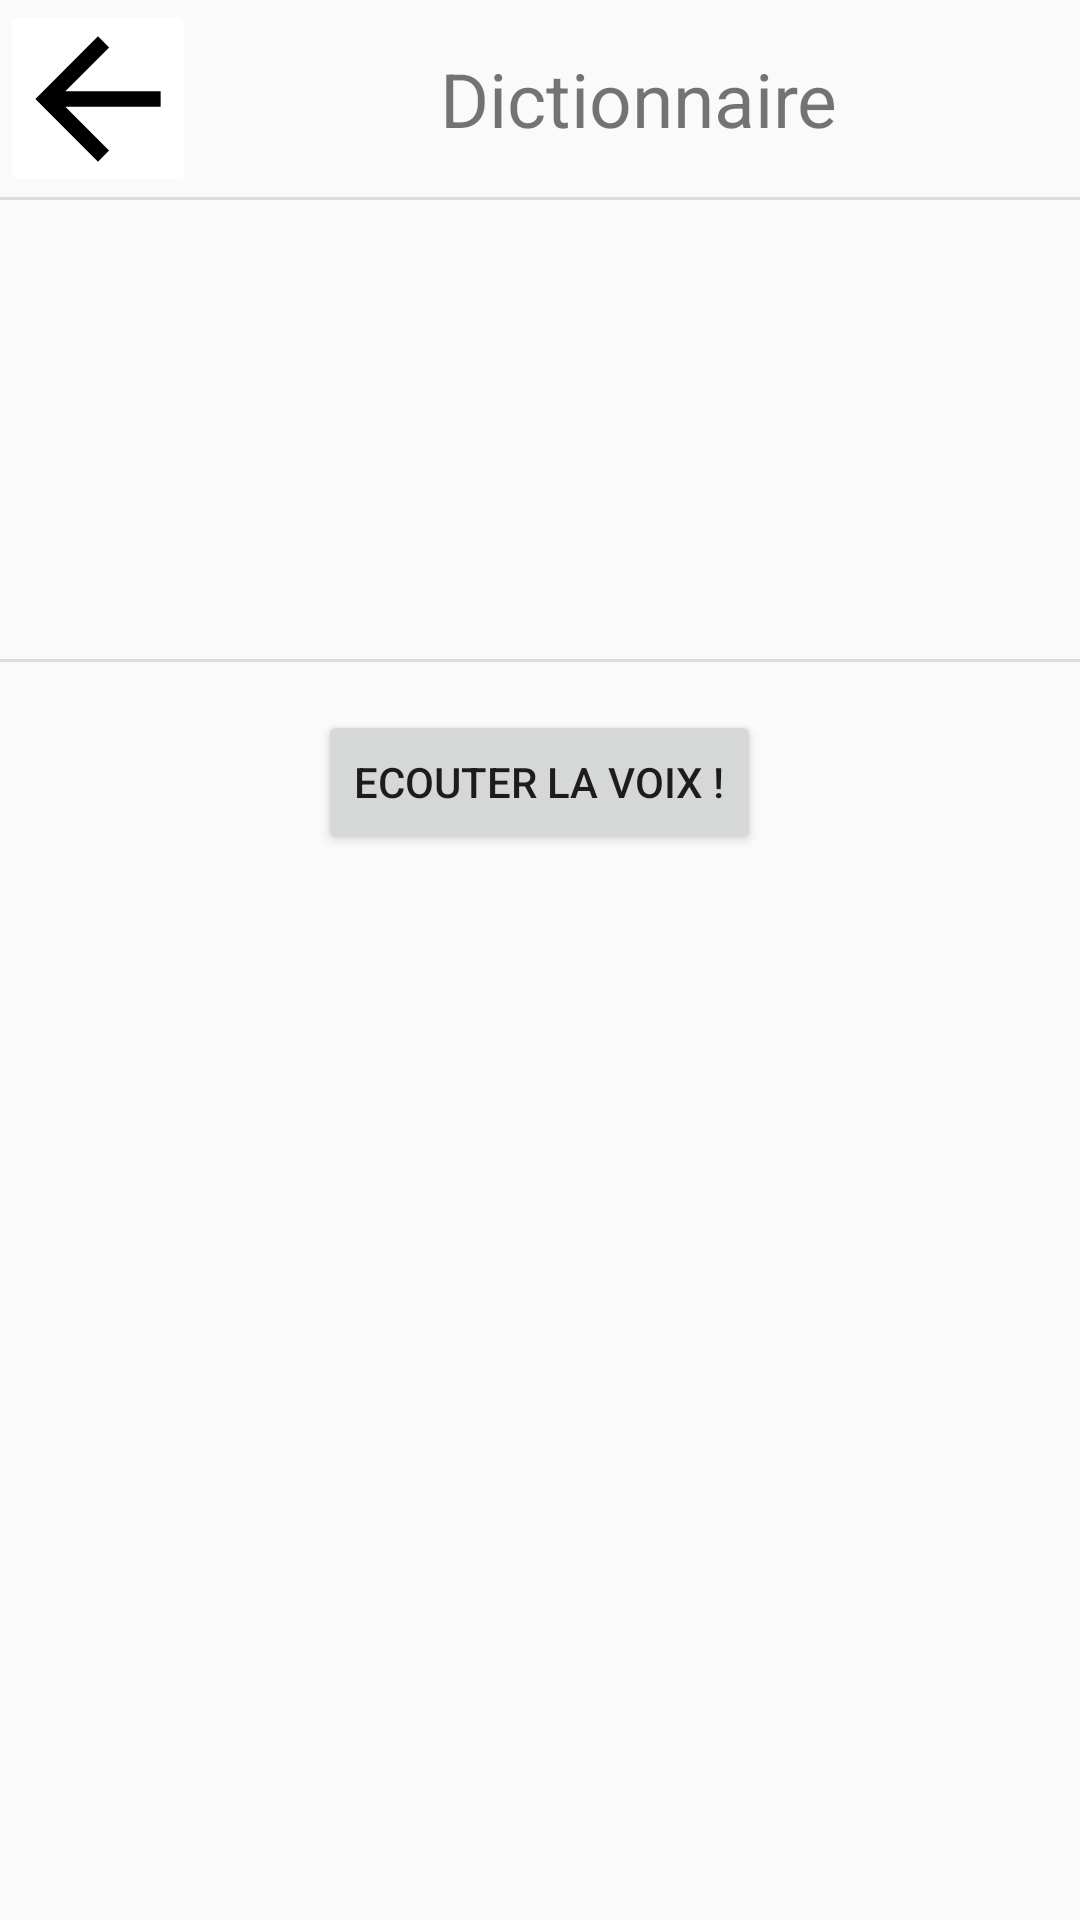

Where icons sit on this 1080x1920 app screen, as (x1, y1, x2, y2):
return: (35, 36, 161, 162)
